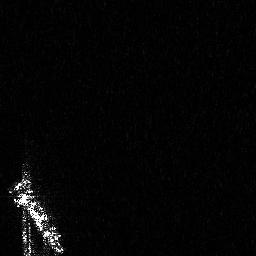ship: (7, 159, 67, 256)
